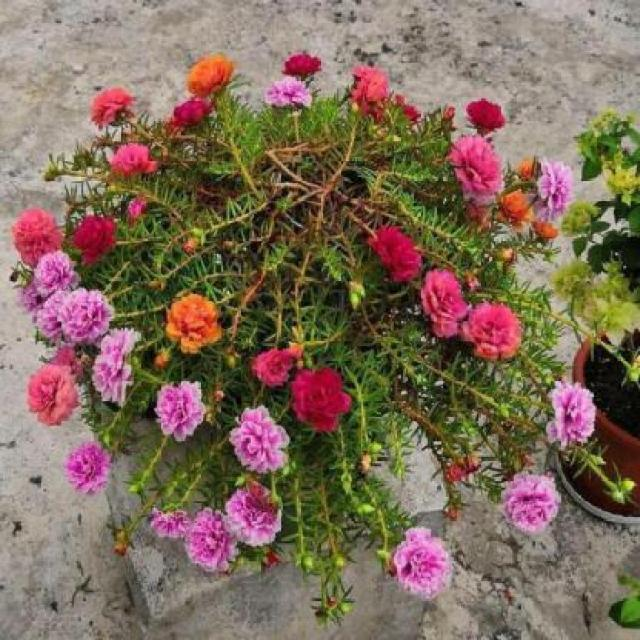flower: (382, 516, 460, 610), (488, 464, 564, 539), (222, 478, 295, 552), (287, 367, 362, 431), (158, 286, 228, 351), (359, 221, 427, 287), (466, 290, 528, 362), (537, 376, 597, 447), (237, 398, 294, 472), (183, 512, 245, 580), (455, 146, 508, 217), (52, 286, 123, 336), (102, 327, 142, 411), (57, 432, 112, 492), (25, 252, 90, 302), (530, 152, 576, 220), (79, 82, 143, 129), (163, 384, 209, 448), (429, 270, 473, 336), (178, 56, 242, 101), (41, 292, 85, 352), (458, 93, 511, 142), (142, 502, 198, 540), (254, 339, 303, 381), (264, 78, 316, 115), (173, 98, 222, 137), (103, 138, 159, 172), (279, 47, 327, 78)
